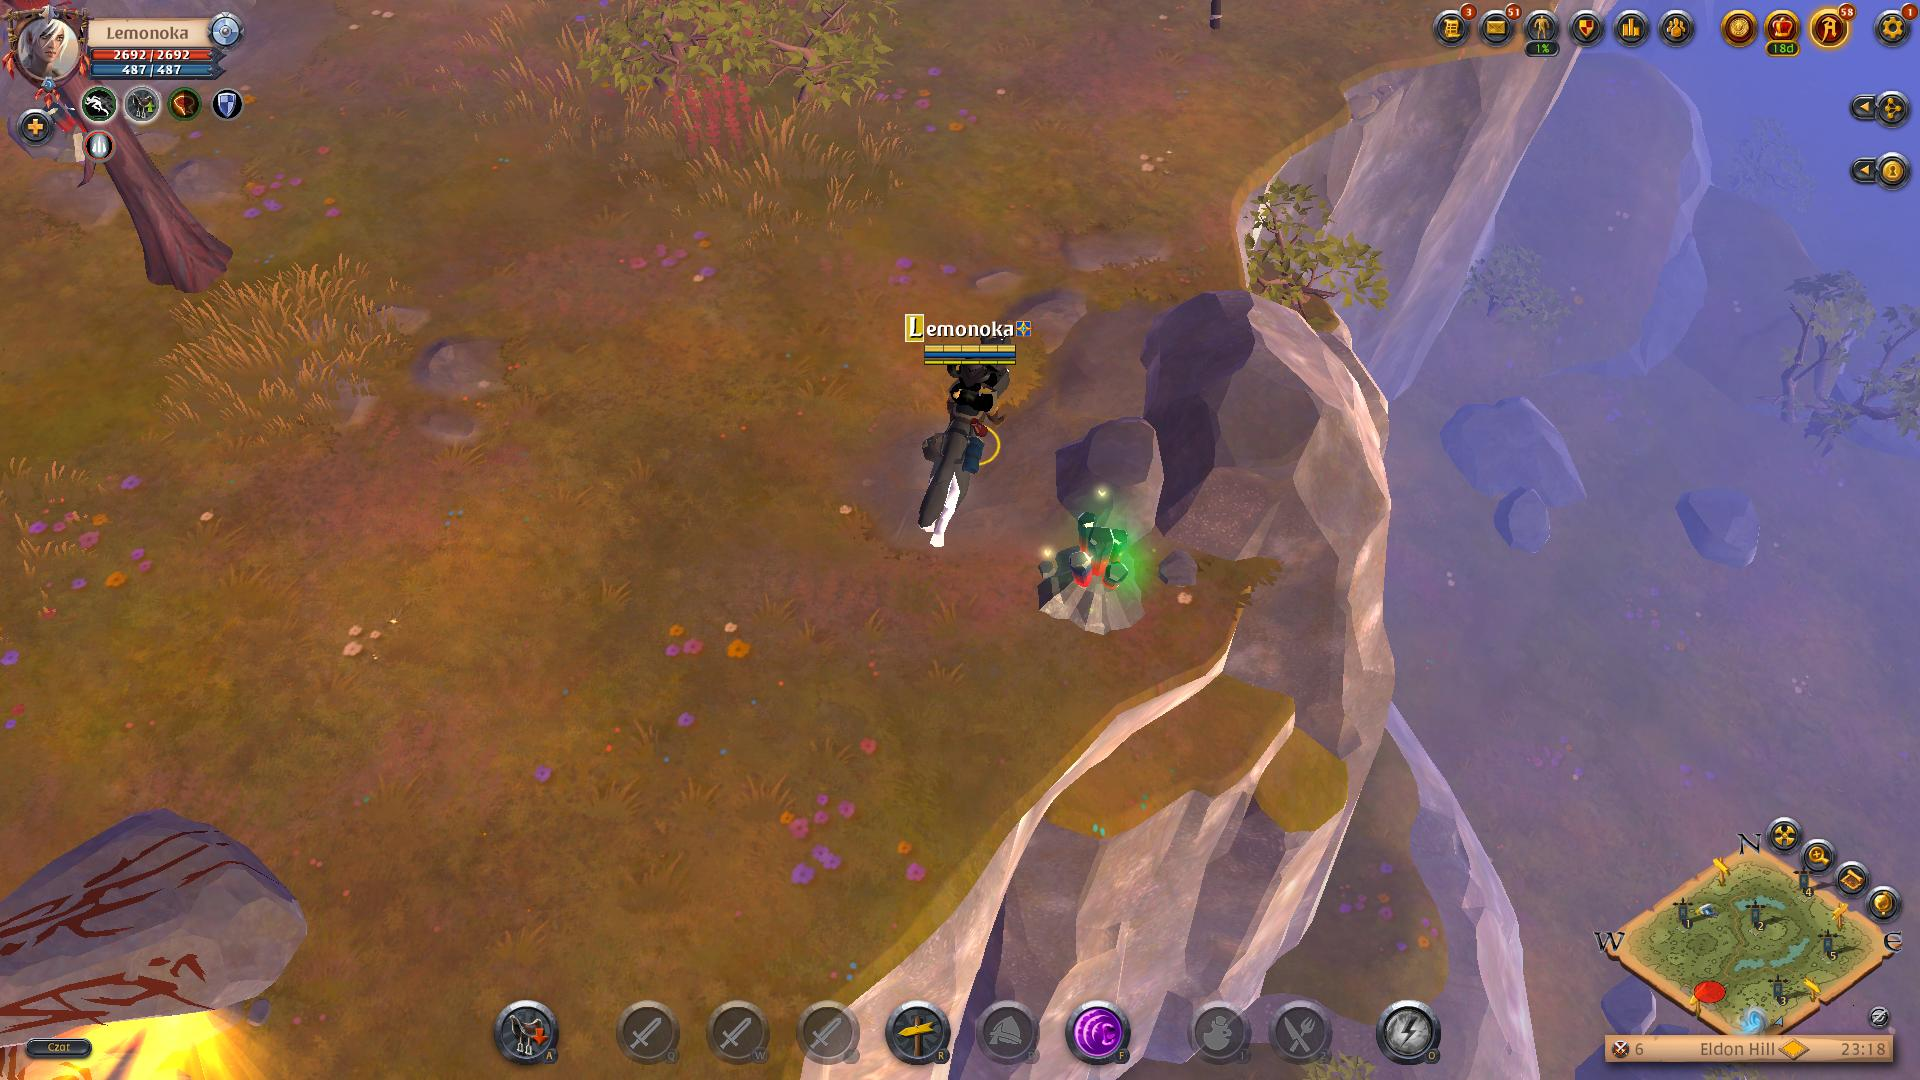ore tier 5: (1023, 510, 1150, 640)
